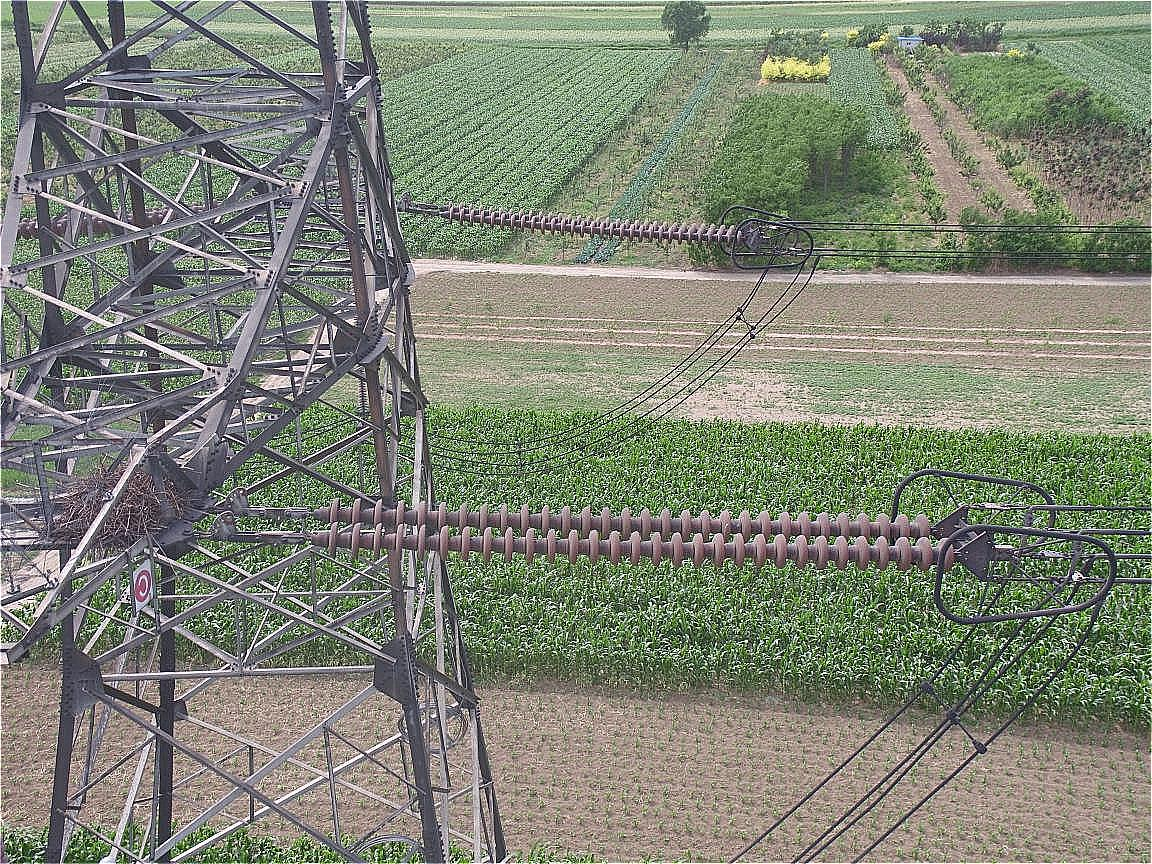insultor1: (307, 489, 970, 573), (436, 196, 760, 249)
